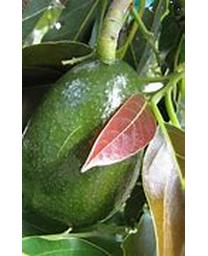avocado: (21, 60, 152, 232)
